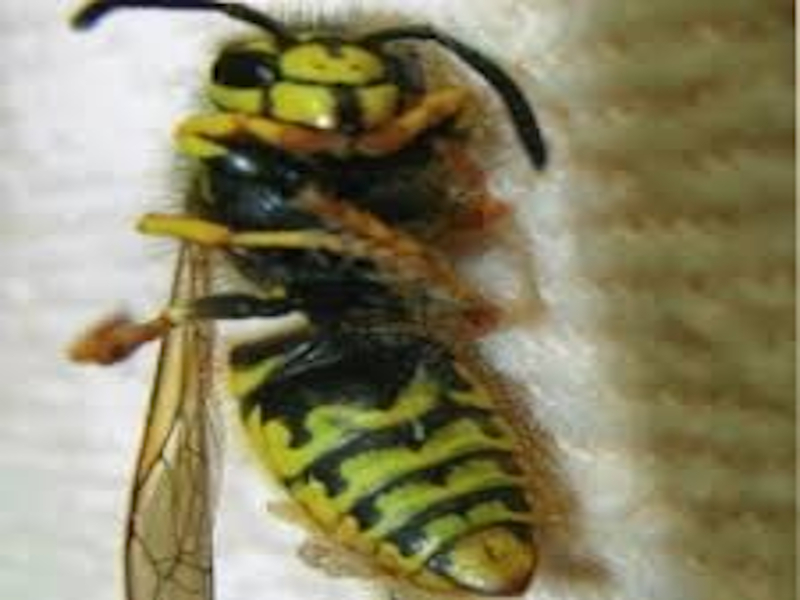chax: (68, 2, 563, 600)
